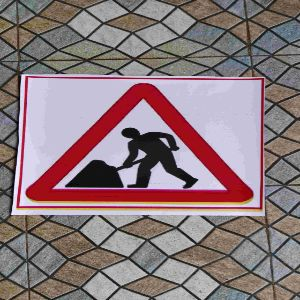men at work: (24, 75, 259, 213)
